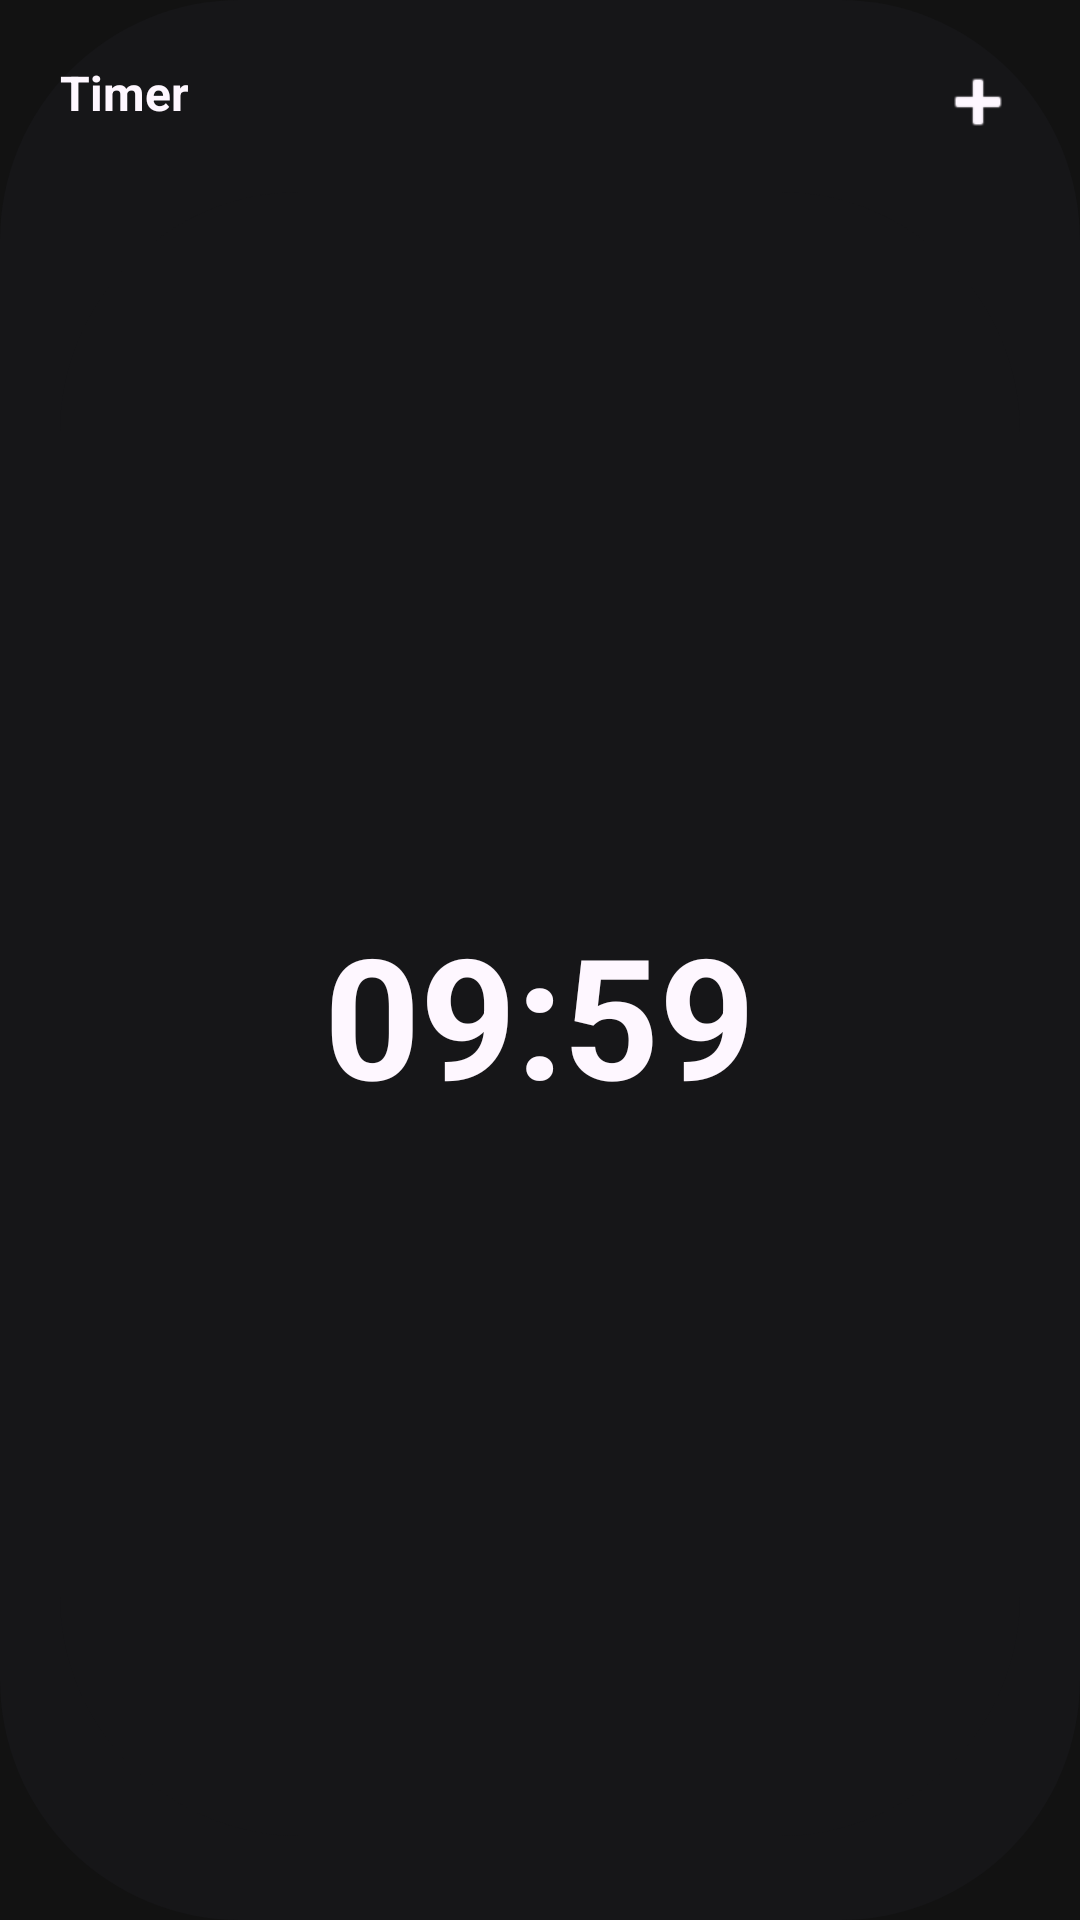

Where icons sit on this 1080px x 1920px app screen, as bbox(x1, y1, x2, y2):
Add Timer: bbox(954, 78, 1002, 126)
